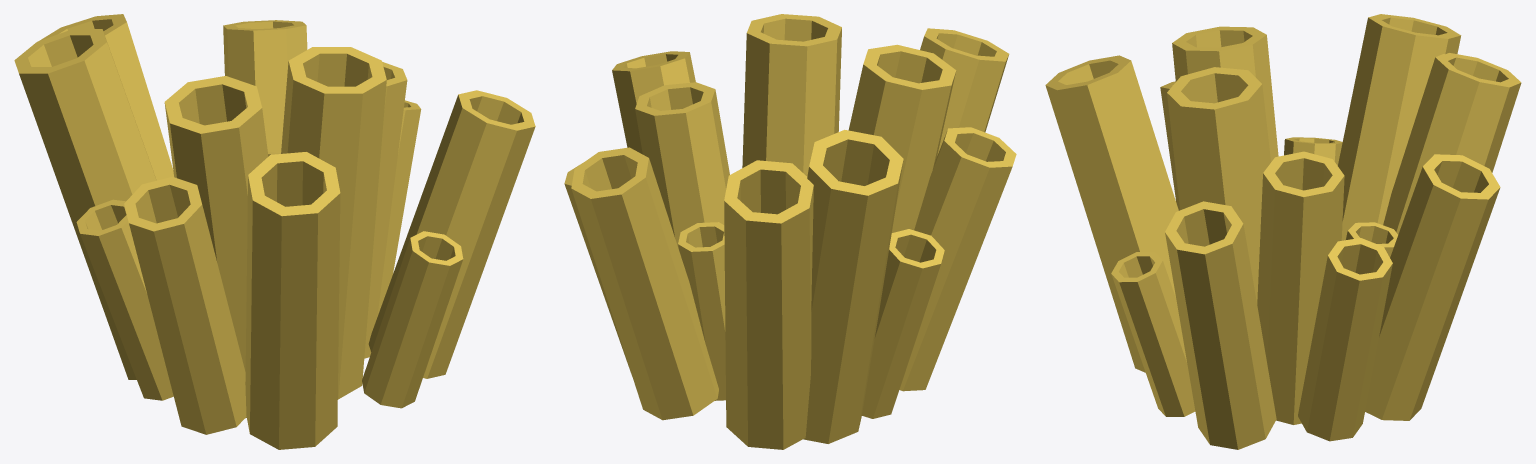
File: TubeCoral_1.fbx
3 views of the same model, side by side, from view 1: azimuth 30°, elevation 25°; view 2: azimuth 150°, elevation 25°; view 3: azimuth 270°, elevation 25° (orthographic). The views are drawn at different scales.
Visible parts, largest first — view 1: Cube; view 2: Cube; view 3: Cube.
Boxes of the visible parts, bbox=[...] form: Cube: bbox=[14, 14, 535, 449]; Cube: bbox=[564, 14, 1016, 449]; Cube: bbox=[1045, 14, 1521, 449].
Bounding box in the file's own units: 174 × 138 × 189.
